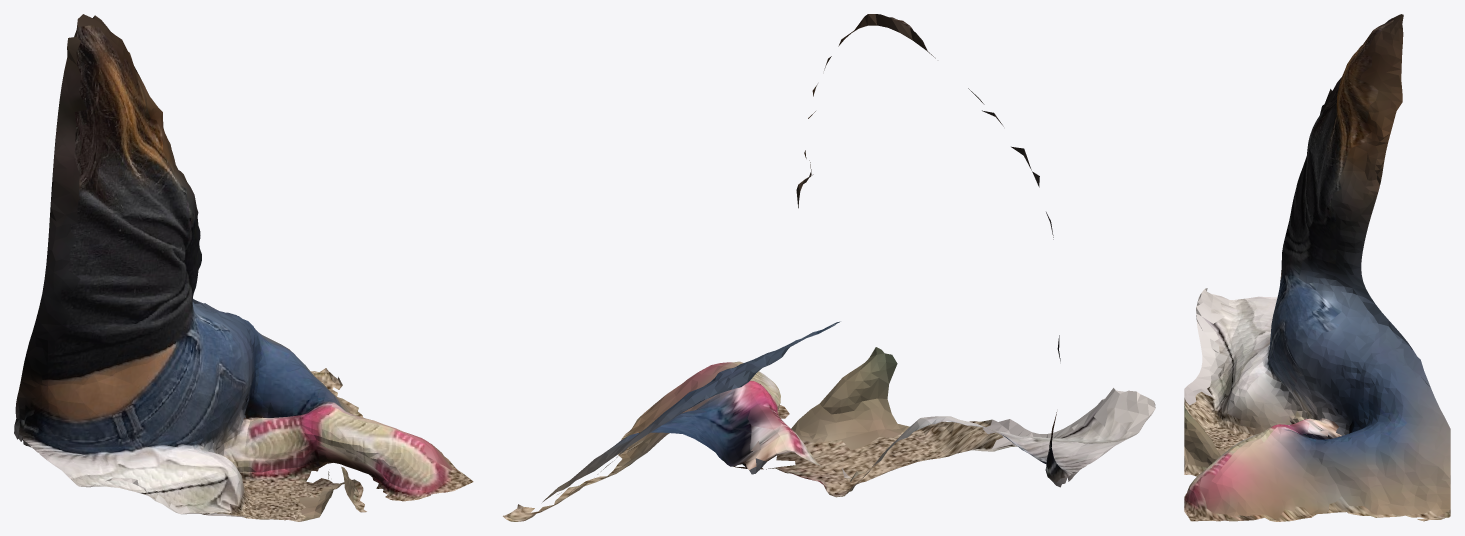
3 renders of one model, left to right at view 1: azimuth 30°, elevation 25°; view 2: azimuth 150°, elevation 25°; view 3: azimuth 270°, elevation 25°, orthographic. The views are drawn at different scales.
Bounding box in the file's own units: 0.7286 × 0.8319 × 0.5127.
1 material, 1 textured.
